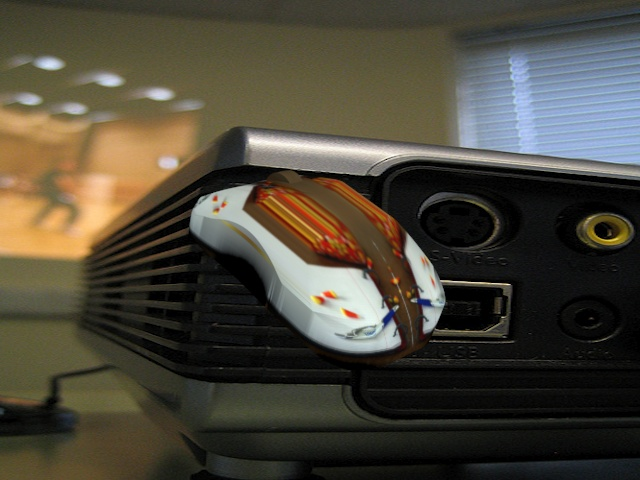mouse: (177, 161, 449, 376)
